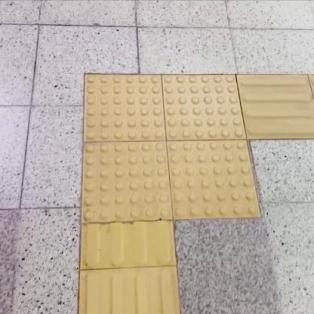Podoctatil: (66, 43, 284, 249)
